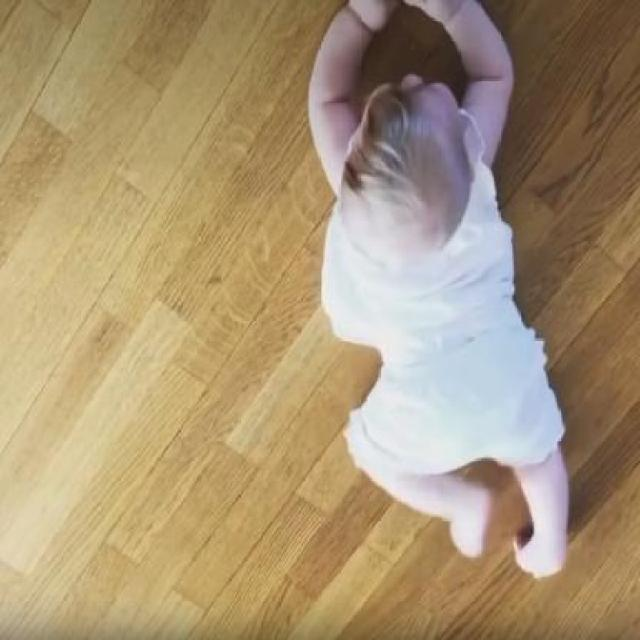baby: (302, 1, 570, 582)
